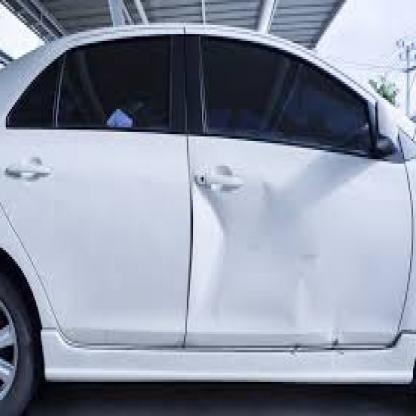dent: (202, 193, 238, 252), (292, 333, 352, 365)
